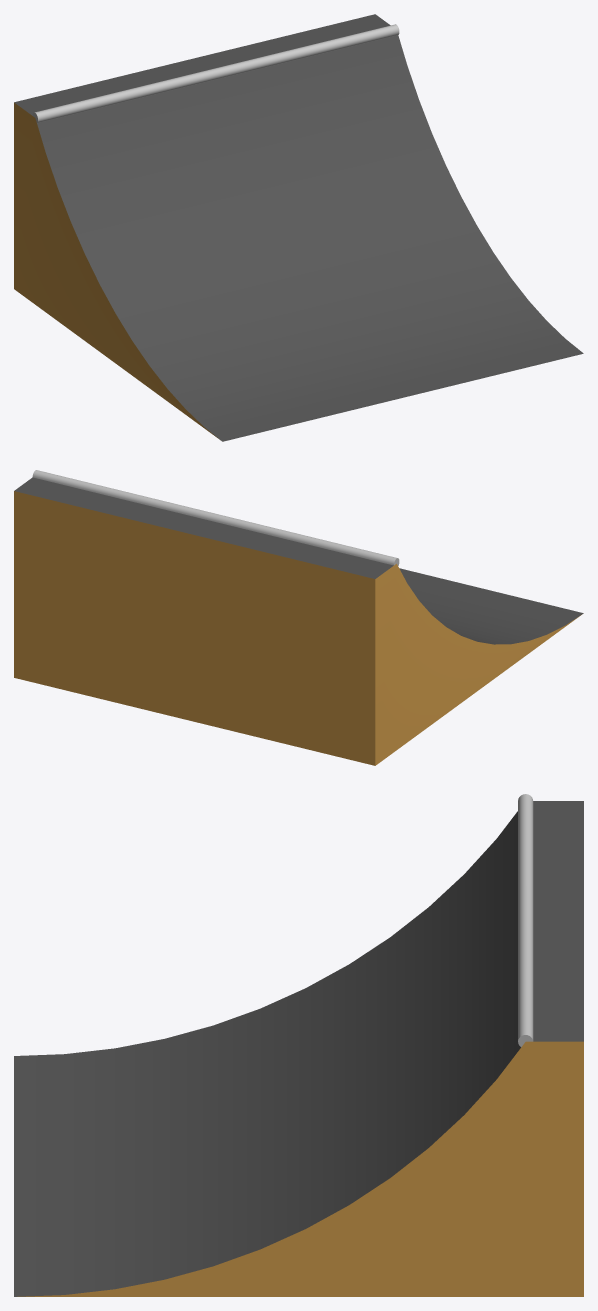
File: Skate_Bowl_Side_Rail_01.FBX
3 renders of one model, top to bottom at view 1: azimuth 30°, elevation 25°; view 2: azimuth 150°, elevation 25°; view 3: azimuth 270°, elevation 25°, orthographic. The views are drawn at different scales.
Visible parts, largest first — view 1: Skate_Bowl_Side_Rail_01; view 2: Skate_Bowl_Side_Rail_01; view 3: Skate_Bowl_Side_Rail_01.
Part boxes in pixels (x1,y1,x2,y2): Skate_Bowl_Side_Rail_01: (14,14,583,441); Skate_Bowl_Side_Rail_01: (14,470,583,765); Skate_Bowl_Side_Rail_01: (14,794,583,1296).
Bounding box in the file's own units: 3 × 1.52 × 3.
